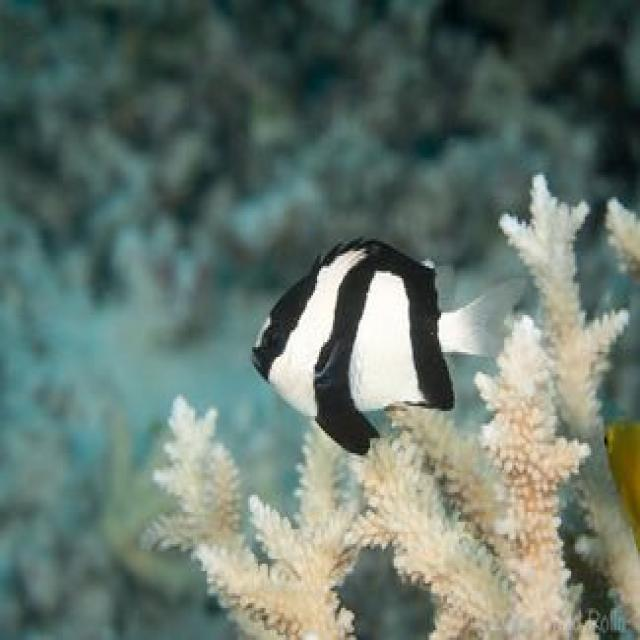ThreeStripedDamselfish: (250, 236, 516, 458)
